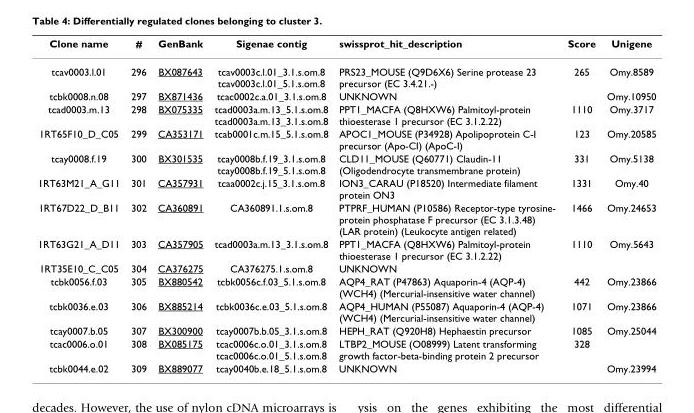table: (36, 36, 655, 373)
table column: (332, 36, 560, 373), (208, 36, 332, 373), (36, 36, 124, 373), (151, 36, 208, 373), (600, 36, 655, 373), (560, 36, 600, 373), (124, 36, 151, 373)
table column header: (36, 36, 655, 57)
table row: (36, 200, 655, 236), (36, 57, 655, 89), (36, 126, 655, 151), (36, 151, 655, 176), (36, 236, 655, 261), (36, 274, 655, 299), (36, 336, 655, 361), (36, 102, 655, 126), (36, 176, 655, 200), (36, 299, 655, 323), (36, 36, 655, 57), (36, 89, 655, 102), (36, 261, 655, 274), (36, 323, 655, 336), (36, 361, 655, 373)
